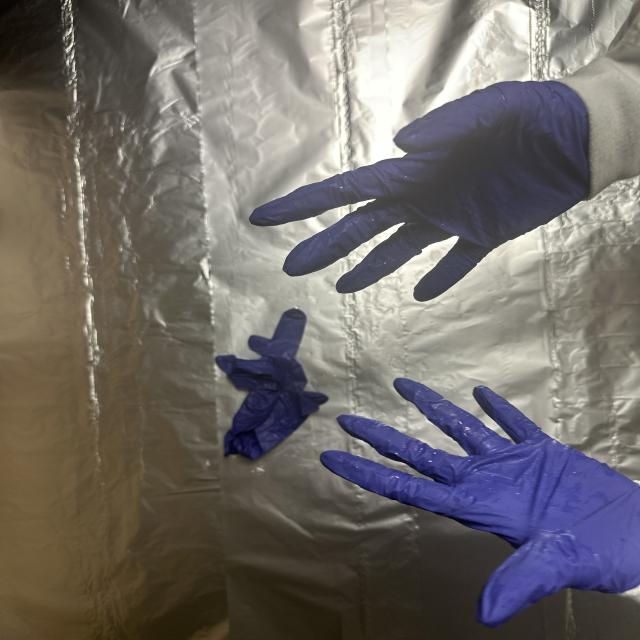gloves_contaminated: (321, 378, 640, 626), (250, 81, 590, 301)
